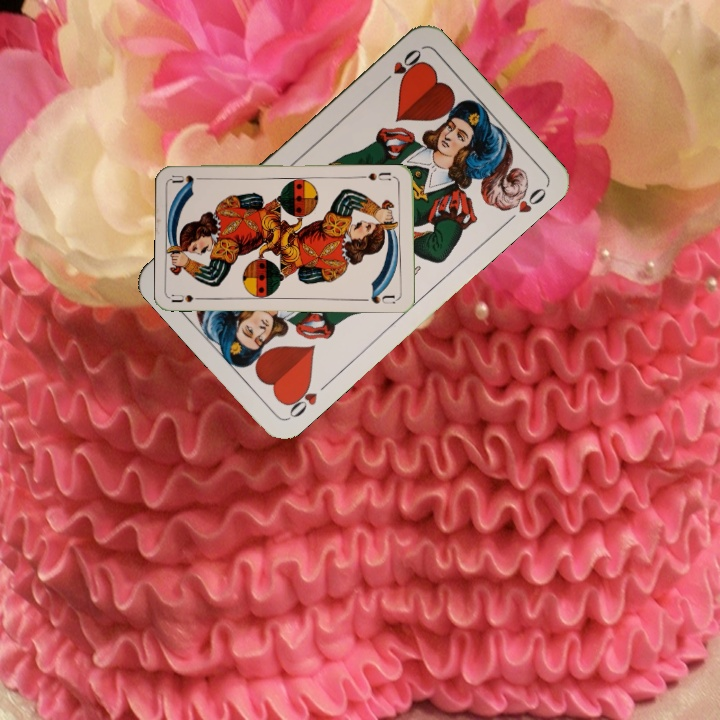HO: (280, 377, 333, 421), (376, 44, 425, 88)
SU: (169, 291, 210, 305), (358, 168, 393, 183)
